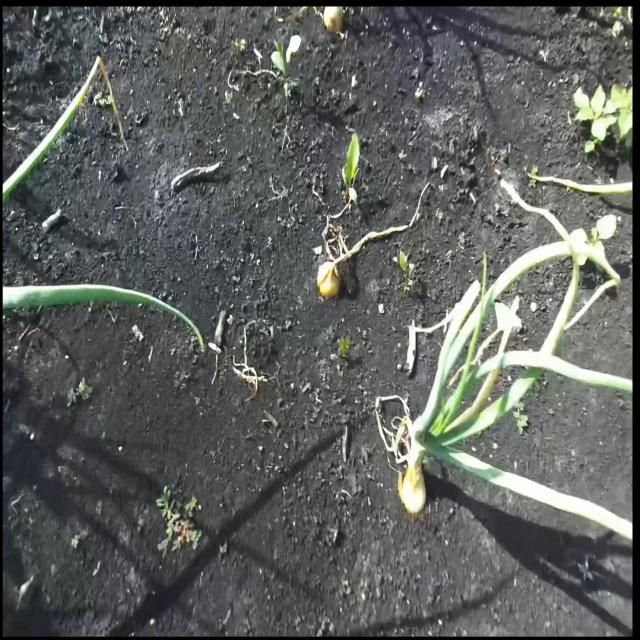onion: (398, 466, 427, 516), (316, 260, 341, 300), (322, 6, 342, 34)
